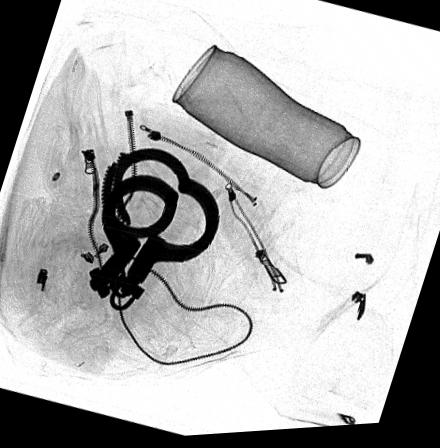HandCuffs: (86, 147, 220, 313)
